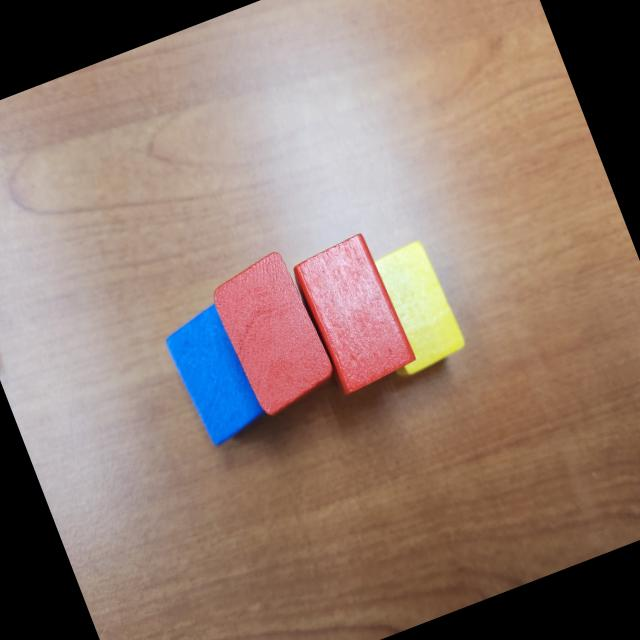blue: (159, 302, 270, 452)
red: (204, 246, 344, 423), (288, 230, 420, 398)
yellow: (353, 237, 471, 382)
